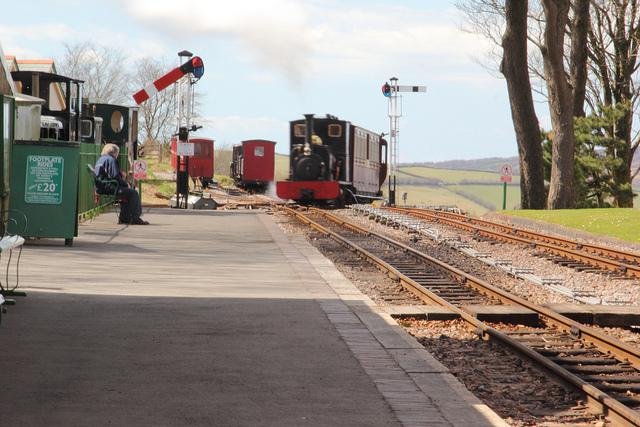Train: (277, 117, 391, 214), (229, 141, 277, 195), (172, 137, 215, 182)
